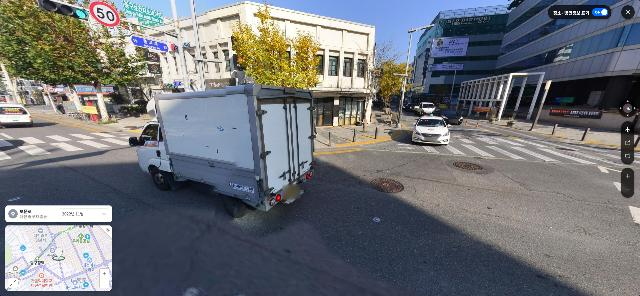ginkgo: (230, 5, 323, 93), (376, 60, 416, 117), (376, 59, 407, 118)
other: (0, 0, 148, 122), (357, 32, 407, 129), (115, 50, 160, 109)
